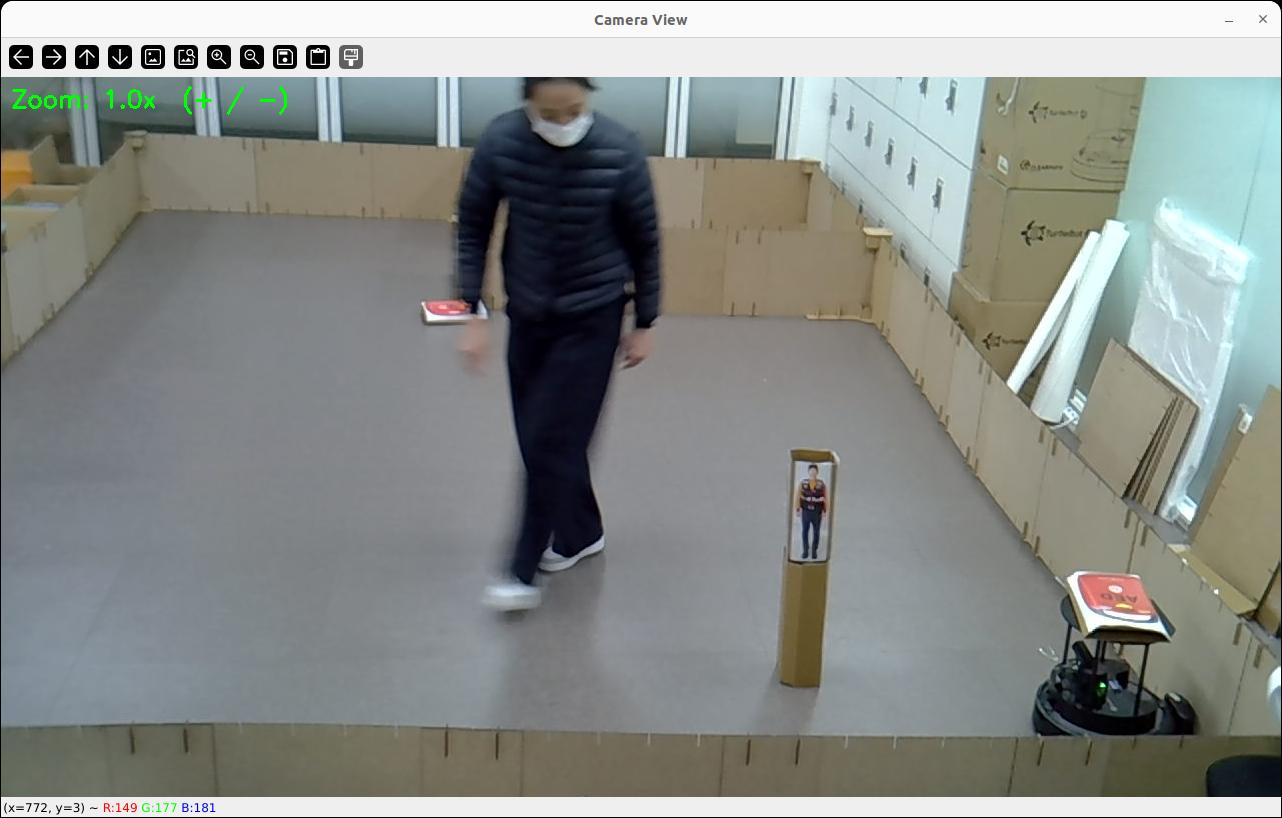AED: (1078, 572, 1161, 624), (421, 301, 467, 323)
Responder: (796, 464, 827, 558)
Robot: (1032, 596, 1173, 735)
